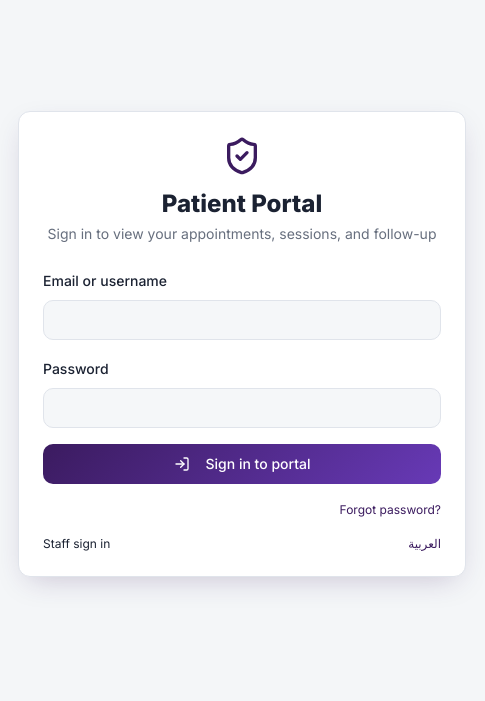
it: patient portal recovery request › offers the panel only after the patient asks for it
The image size is (485, 701).
Check: the button "Send reset link" is not shown
Click the button "Forgot password?": (390, 510) [340,502,441,518]
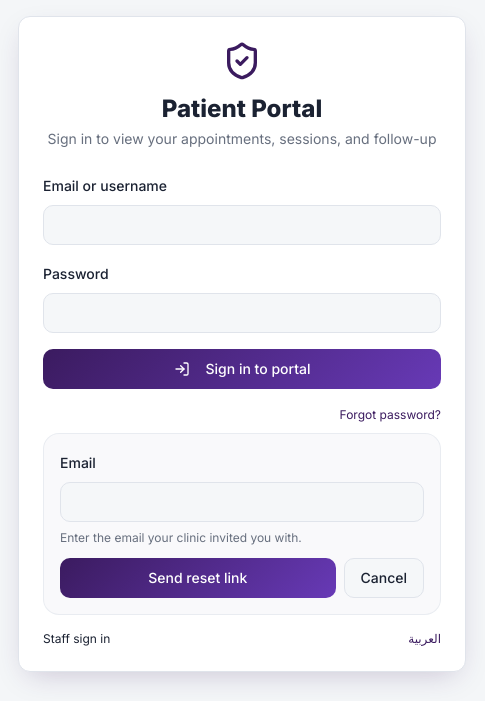
Check: the button "Send reset link" is enabled, box [60,558,336,598]
Check: the button "Forgot password?" is expanded, box [340,407,441,423]
